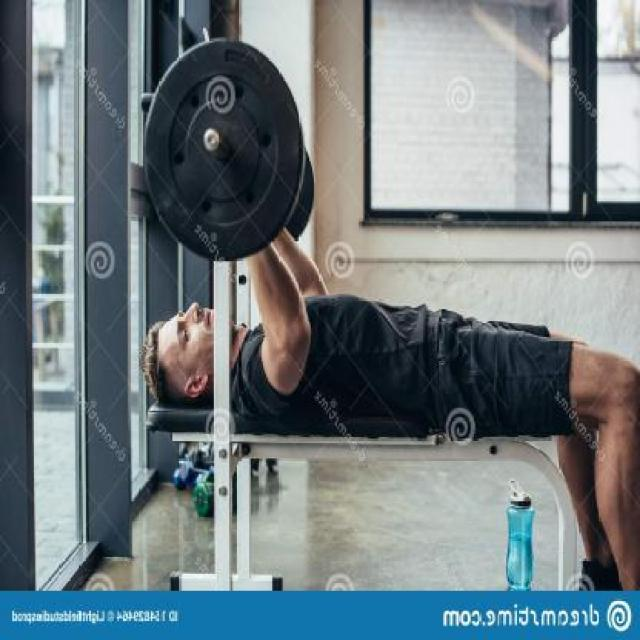Barbell: (202, 125, 224, 154)
